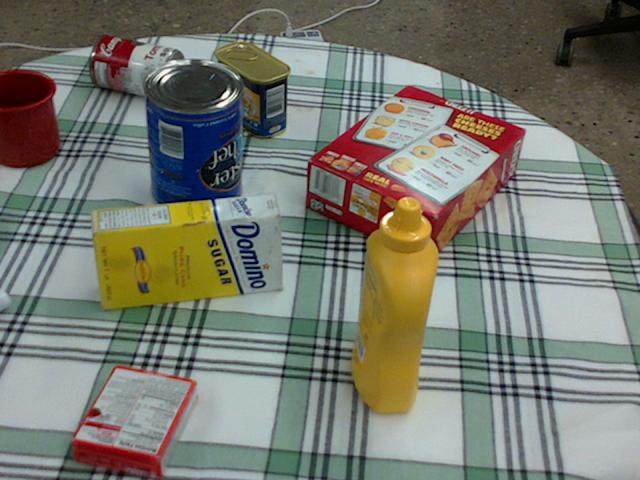cracker_box: (306, 85, 524, 262)
gelatin_box: (71, 364, 195, 478)
large_marker: (0, 288, 10, 310)
master_chef_can: (140, 59, 241, 219)
mug: (0, 68, 60, 164)
mustard_bottle: (351, 197, 438, 410)
potted_meat_can: (213, 42, 289, 137)
sugar_box: (89, 194, 281, 308)
tomato_soup_can: (89, 34, 183, 99)
